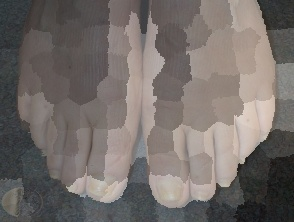Nail_psoriasis: (153, 176, 187, 204), (87, 171, 121, 197), (189, 188, 211, 202), (61, 181, 79, 195), (216, 177, 235, 189), (46, 167, 62, 180), (239, 156, 247, 169), (38, 148, 47, 158)
